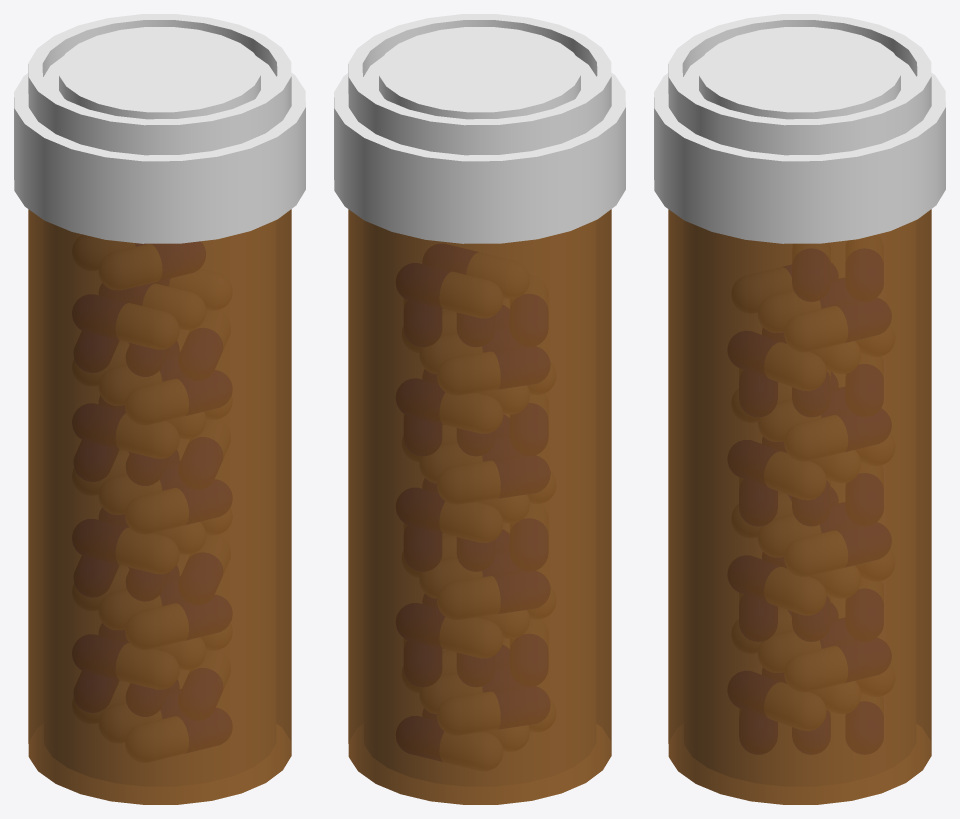
File: pills.dae
The picture shows the model from 3 angles, left to right: view 1: azimuth 30°, elevation 25°; view 2: azimuth 150°, elevation 25°; view 3: azimuth 270°, elevation 25°; orthographic projection.
Visible parts, largest first — view 1: skpE744 (×7); view 2: skpE744 (×7); view 3: skpE744 (×7).
Part boxes in pixels (x1,y1,x2,y2): skpE744 (×7): [14, 14, 305, 804]; skpE744 (×7): [334, 14, 625, 804]; skpE744 (×7): [654, 14, 945, 804].
Bounding box in the file's own units: 1.72 × 1.72 × 4.42.
